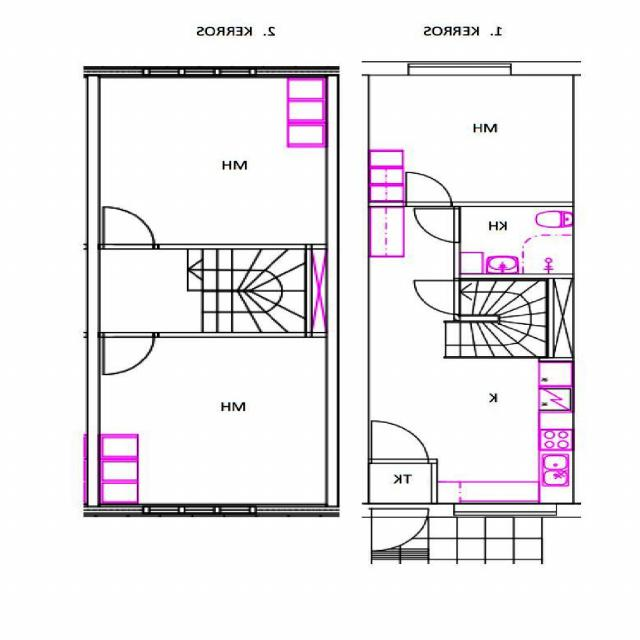door: (372, 504, 428, 559), (372, 416, 429, 463), (104, 333, 154, 375), (106, 207, 155, 249), (410, 280, 460, 314), (408, 169, 452, 207), (410, 209, 460, 242)
